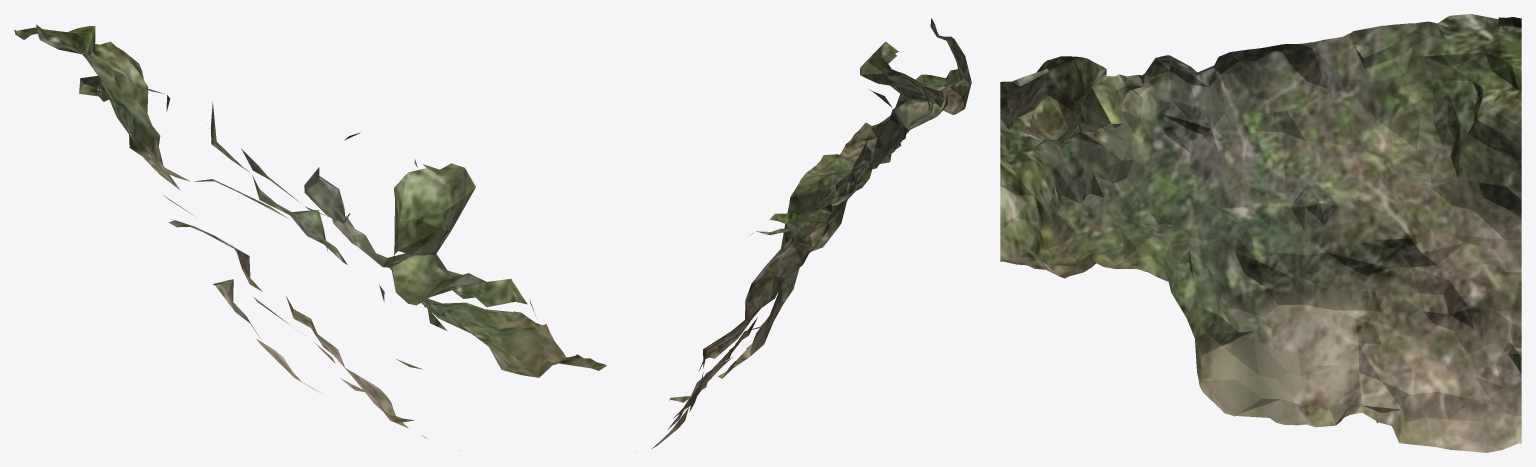
3 renders of one model, left to right at view 1: azimuth 30°, elevation 25°; view 2: azimuth 150°, elevation 25°; view 3: azimuth 270°, elevation 25°, orthographic. The views are drawn at different scales.
Bounding box in the file's own units: 1.42 × 2.08 × 2.95.
Materials: 2 (2 with a texture image).
